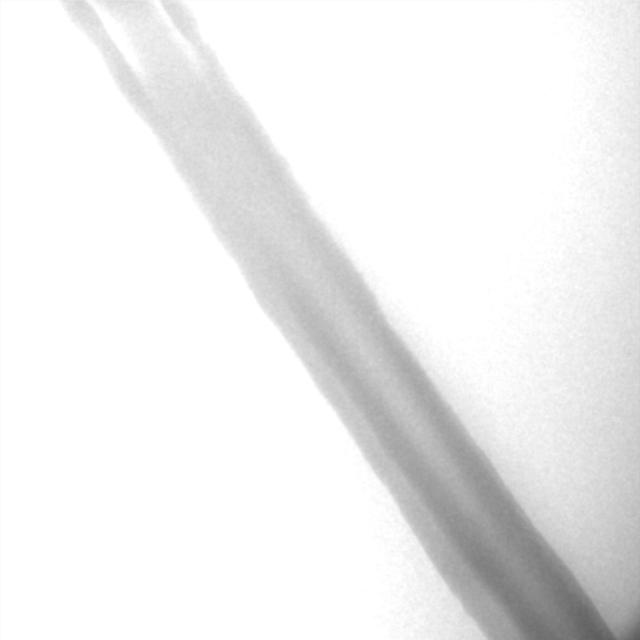unfused: (90, 0, 204, 86)
